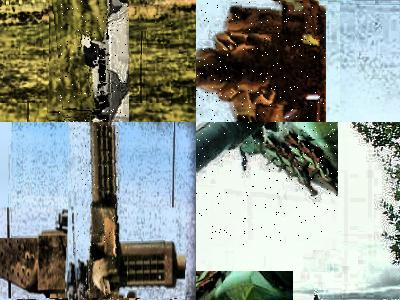tanks: (197, 3, 327, 123), (197, 123, 338, 199), (74, 123, 120, 300), (83, 1, 129, 123), (20, 298, 35, 300)
